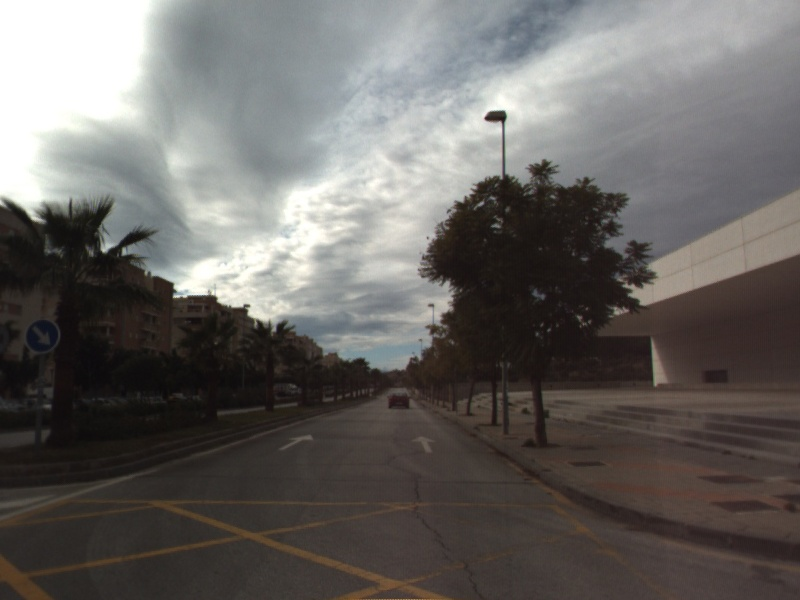STRAIGHT: (276, 432, 315, 452), (409, 433, 439, 455)
